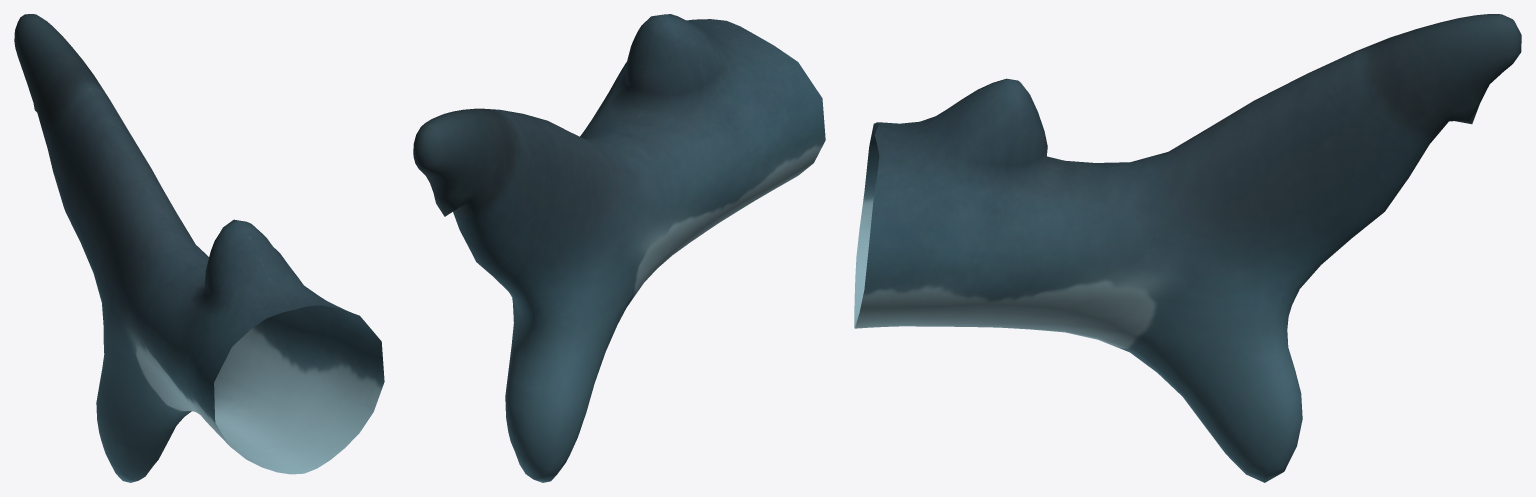
The model's file is ColaMartillo.obj.
3 renders of one model, left to right at view 1: azimuth 30°, elevation 25°; view 2: azimuth 150°, elevation 25°; view 3: azimuth 270°, elevation 25°, orthographic. The views are drawn at different scales.
Visible parts, largest first — view 1: polySurface2 pelucheTiburon2:_Hammerhead_Shark_v1; view 2: polySurface2 pelucheTiburon2:_Hammerhead_Shark_v1; view 3: polySurface2 pelucheTiburon2:_Hammerhead_Shark_v1.
Part boxes in pixels (left/top/right/bottom): polySurface2 pelucheTiburon2:_Hammerhead_Shark_v1: left=14, top=14, right=384, bottom=482; polySurface2 pelucheTiburon2:_Hammerhead_Shark_v1: left=413, top=14, right=825, bottom=482; polySurface2 pelucheTiburon2:_Hammerhead_Shark_v1: left=854, top=14, right=1521, bottom=482.
Bounding box in the file's own units: 2.18 × 4.87 × 6.31.
Materials: 1 (1 with a texture image).
